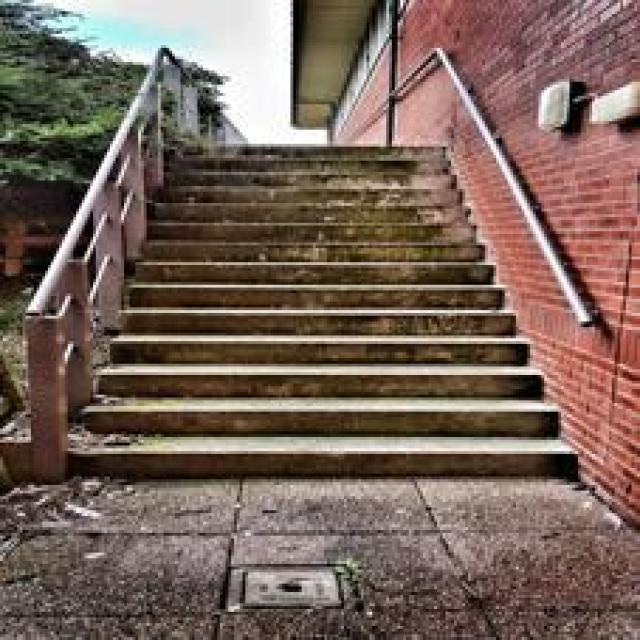upstair: (74, 303, 503, 500)
